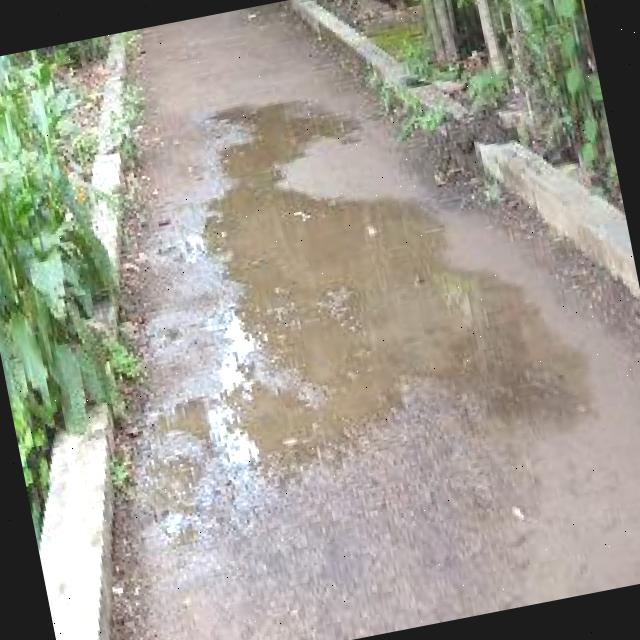stagnation: (165, 65, 461, 468)
